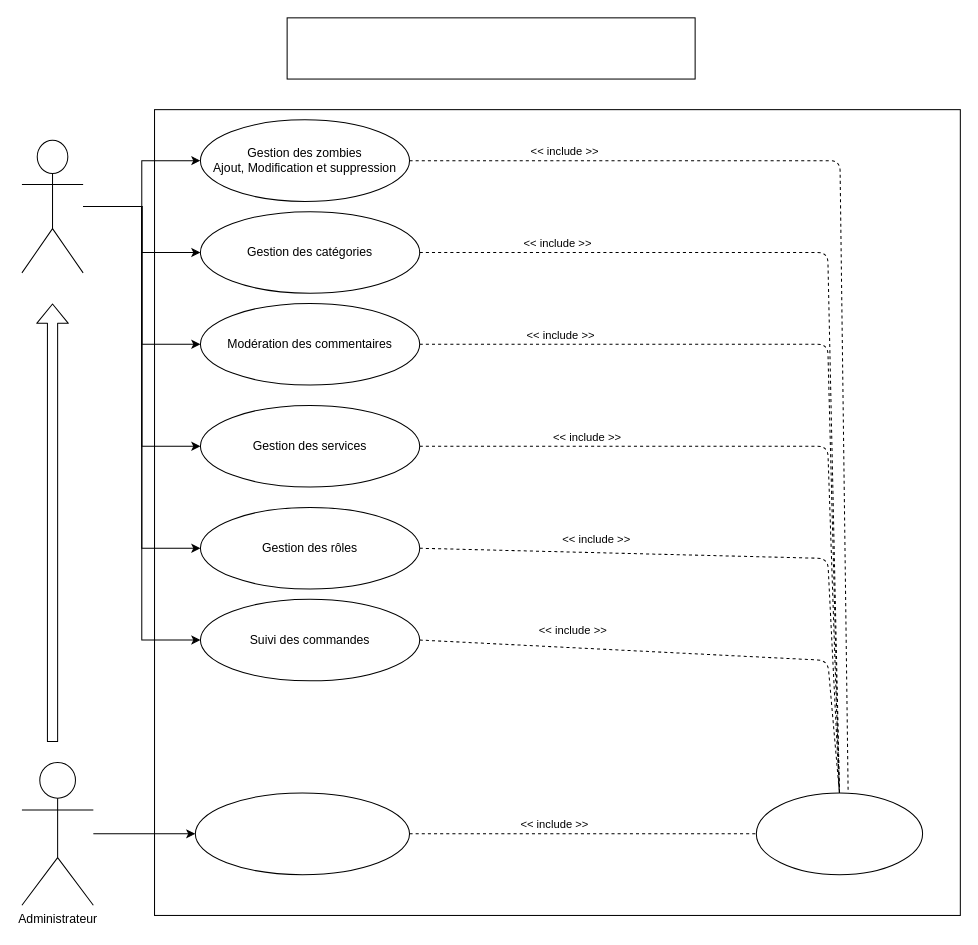
This 978x945 diagram has some shape labels left out. Each missing label, with the box of its shape:
Gestion des utilisateurs: (194, 792, 410, 875)
Gestionnaire: (21, 139, 83, 273)
Se connecter: (755, 792, 923, 875)
Use case pour les gestionnaire et administraturs: (286, 17, 695, 79)
